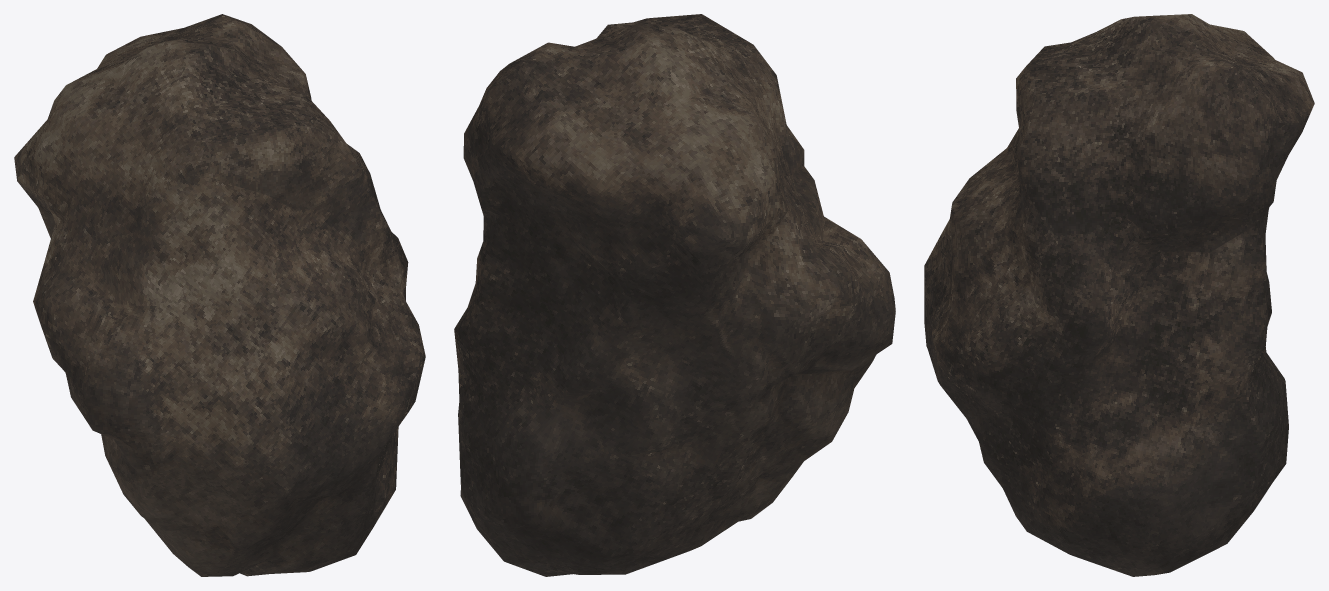
Rendered from SM_RP2_Rock_4m_8.glb.
3 renders of one model, left to right at view 1: azimuth 30°, elevation 25°; view 2: azimuth 150°, elevation 25°; view 3: azimuth 270°, elevation 25°, orthographic. The views are drawn at different scales.
Parts seen in each view (by area): view 1: SM_RP2_Rock_4m_8; view 2: SM_RP2_Rock_4m_8; view 3: SM_RP2_Rock_4m_8.
Boxes of the visible parts, x1,y1,x2,y2 form: SM_RP2_Rock_4m_8: (14,14,425,576); SM_RP2_Rock_4m_8: (454,14,895,576); SM_RP2_Rock_4m_8: (924,14,1314,576).
Size of the model in its own units: 5.18 by 7.4 by 5.18.
1 material, 1 textured.
